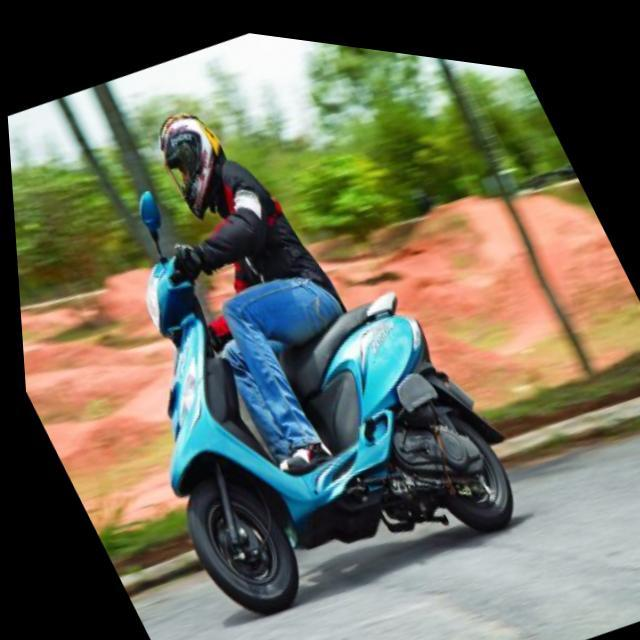Helmet: (152, 102, 234, 226)
